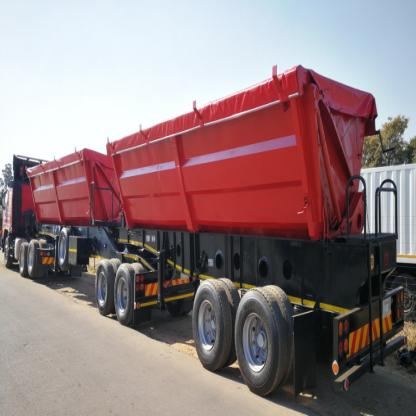dump_truck: (0, 61, 416, 415)
